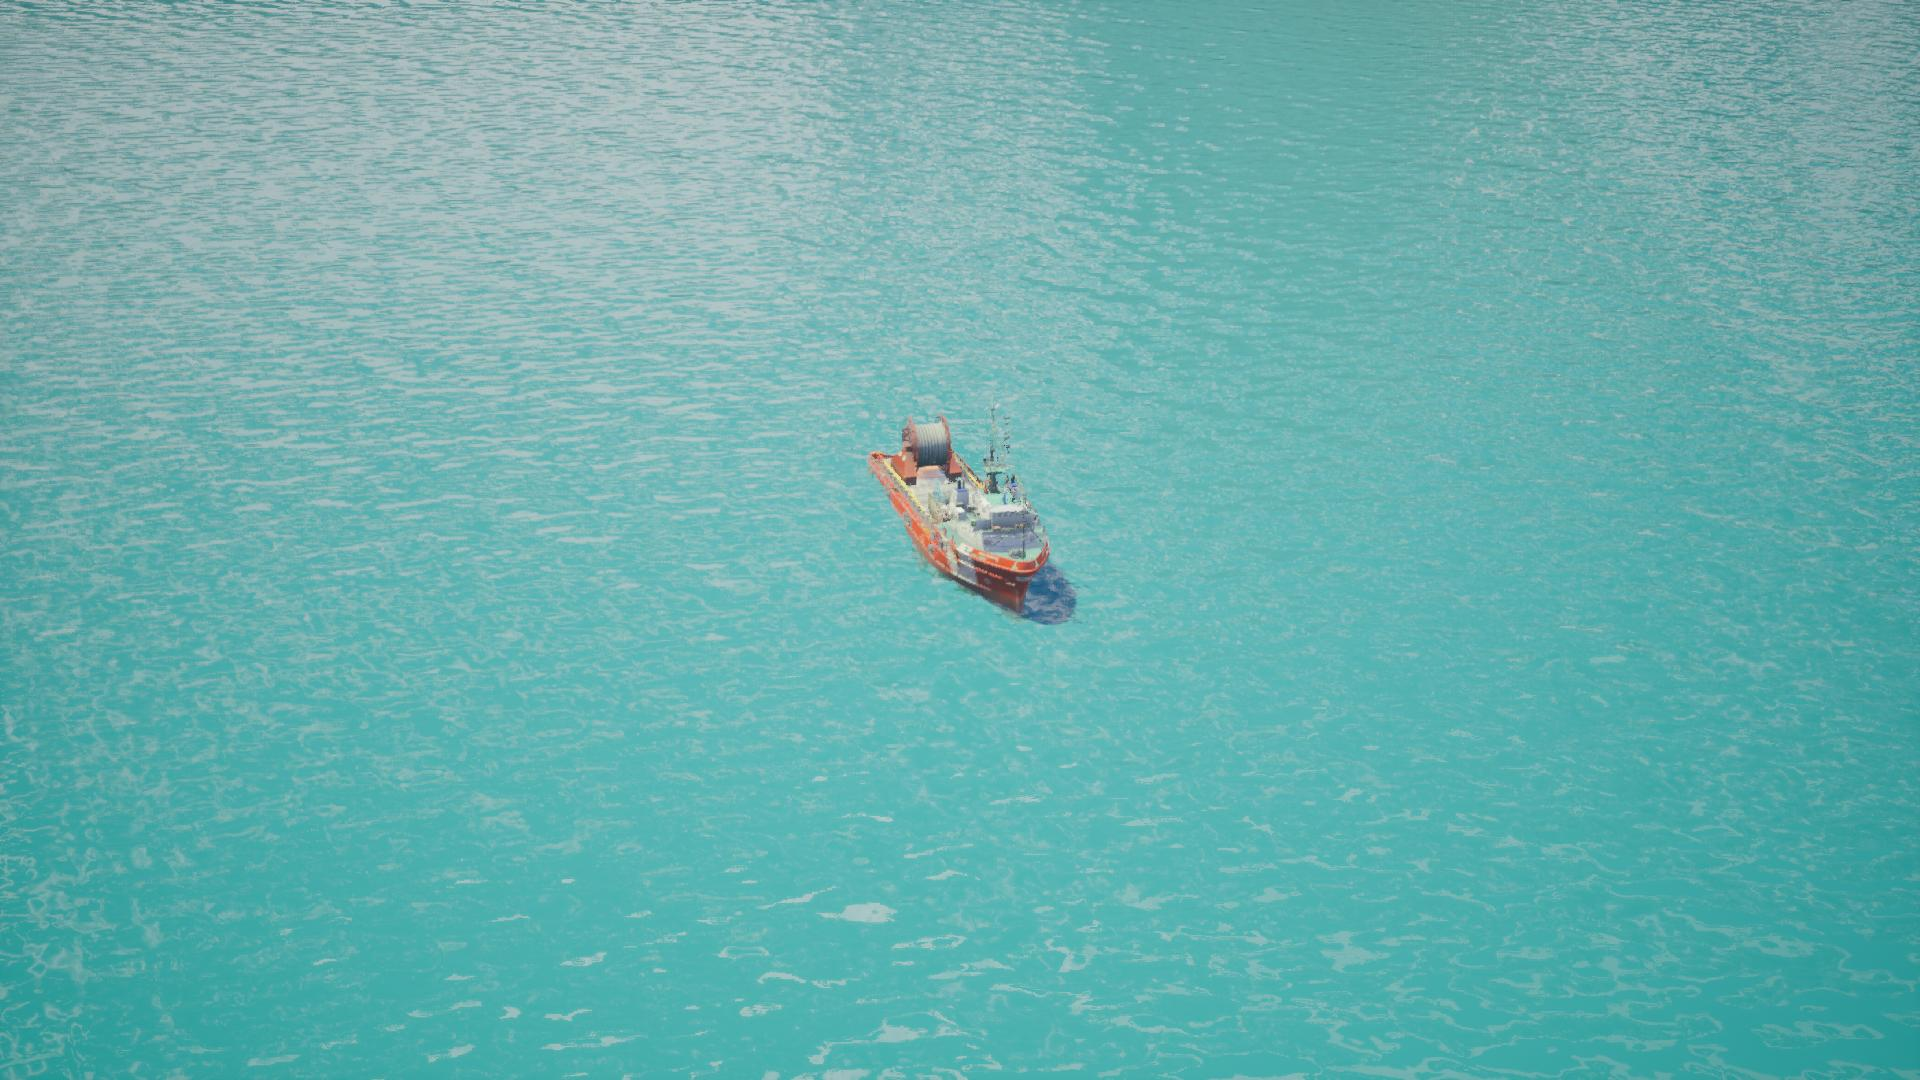Tug Boat: (841, 384, 1110, 651)
